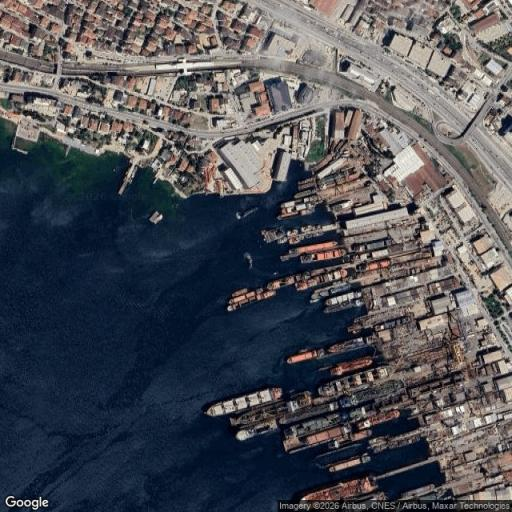ship: (231, 392, 311, 425), (319, 366, 388, 396), (206, 388, 282, 415), (287, 338, 368, 363), (284, 412, 349, 442), (283, 422, 350, 451), (301, 477, 376, 501), (340, 380, 403, 407), (281, 401, 340, 425), (227, 288, 275, 311), (280, 241, 338, 260), (296, 270, 348, 291), (328, 429, 373, 449), (236, 419, 278, 440), (357, 410, 399, 429), (328, 454, 370, 472), (330, 358, 372, 376), (328, 337, 369, 354), (311, 283, 352, 300), (300, 249, 346, 263), (287, 348, 325, 363), (325, 292, 362, 306), (401, 483, 435, 498), (261, 227, 287, 244), (267, 275, 295, 289), (236, 207, 258, 219), (277, 210, 299, 220), (280, 199, 303, 207), (150, 211, 163, 223), (244, 252, 252, 267), (131, 167, 137, 178)
